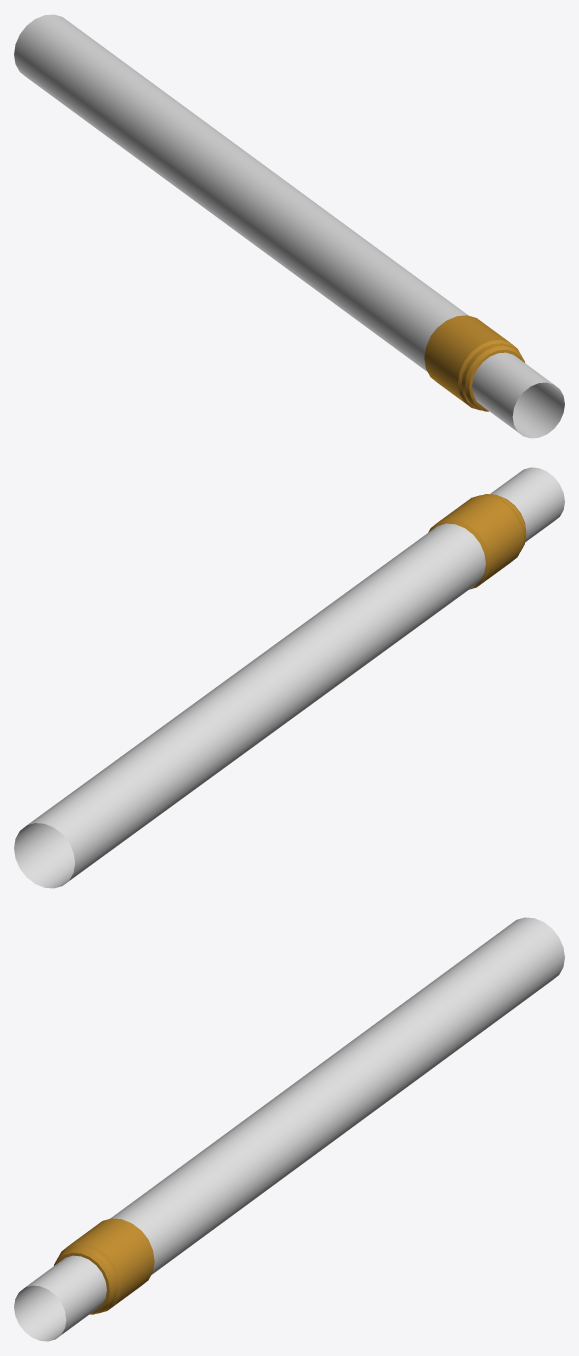
Rendered from MobileCrane_Hydraulic_02a_snaps005.fbx.
The picture shows the model from 3 angles, top to bottom: view 1: azimuth 30°, elevation 25°; view 2: azimuth 150°, elevation 25°; view 3: azimuth 330°, elevation 25°; orthographic projection.
Parts seen in each view (by area): view 1: a2; view 2: a2; view 3: a2.
Part boxes in pixels (<box>): a2: <box>14,14,564,438</box>; a2: <box>14,467,564,888</box>; a2: <box>14,917,564,1341</box>.
Size of the model in its own units: 29.67 by 29.72 by 385.
